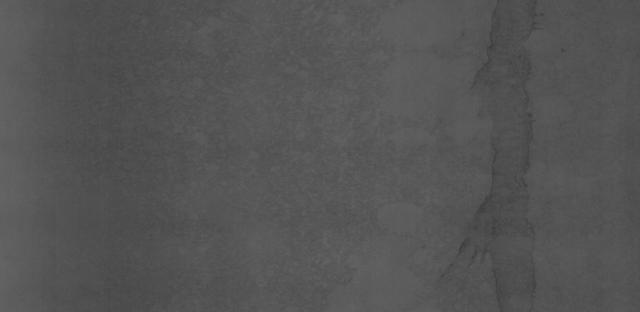water_spot: (449, 15, 546, 305)
